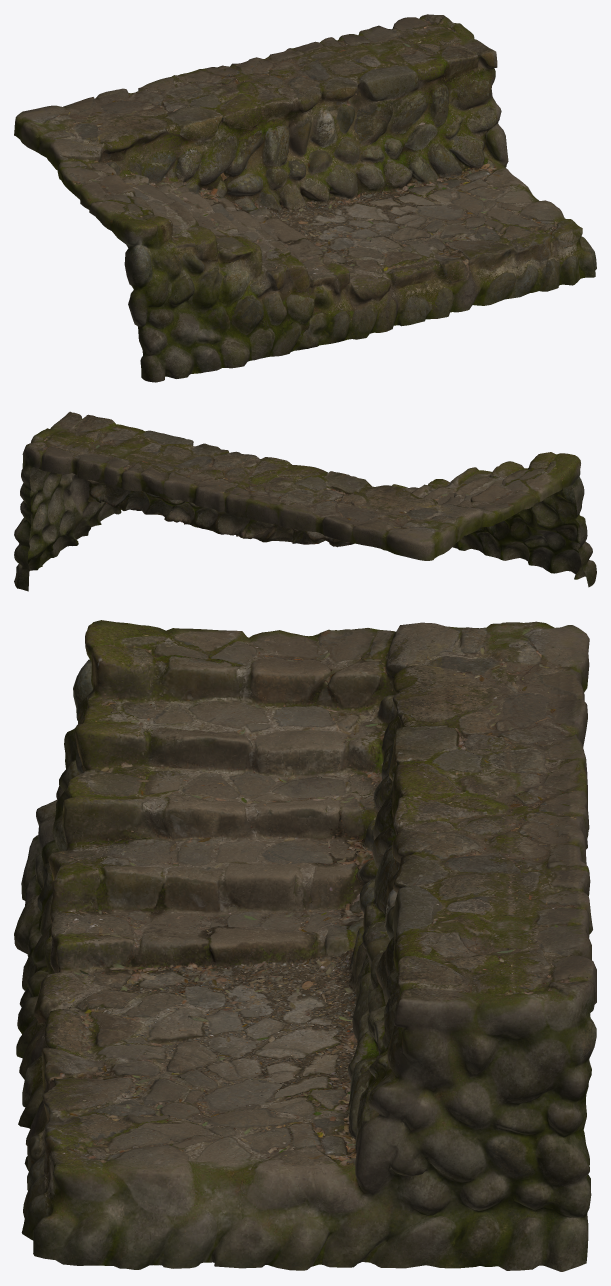
File: JapanFloor.fbx
3 views of the same model, one above another, from view 1: azimuth 30°, elevation 25°; view 2: azimuth 150°, elevation 25°; view 3: azimuth 270°, elevation 25° (orthographic). The views are drawn at different scales.
Parts seen in each view (by area): view 1: Aset_historical_feudal_japan_L_ve0icftdb_LOD0; view 2: Aset_historical_feudal_japan_L_ve0icftdb_LOD0; view 3: Aset_historical_feudal_japan_L_ve0icftdb_LOD0.
Part boxes in pixels (bbox=[...]): Aset_historical_feudal_japan_L_ve0icftdb_LOD0: bbox=[14, 14, 596, 382]; Aset_historical_feudal_japan_L_ve0icftdb_LOD0: bbox=[14, 411, 596, 591]; Aset_historical_feudal_japan_L_ve0icftdb_LOD0: bbox=[14, 620, 596, 1271].
Bounding box in the file's own units: 368 × 117 × 227.
1 material, 1 textured.
